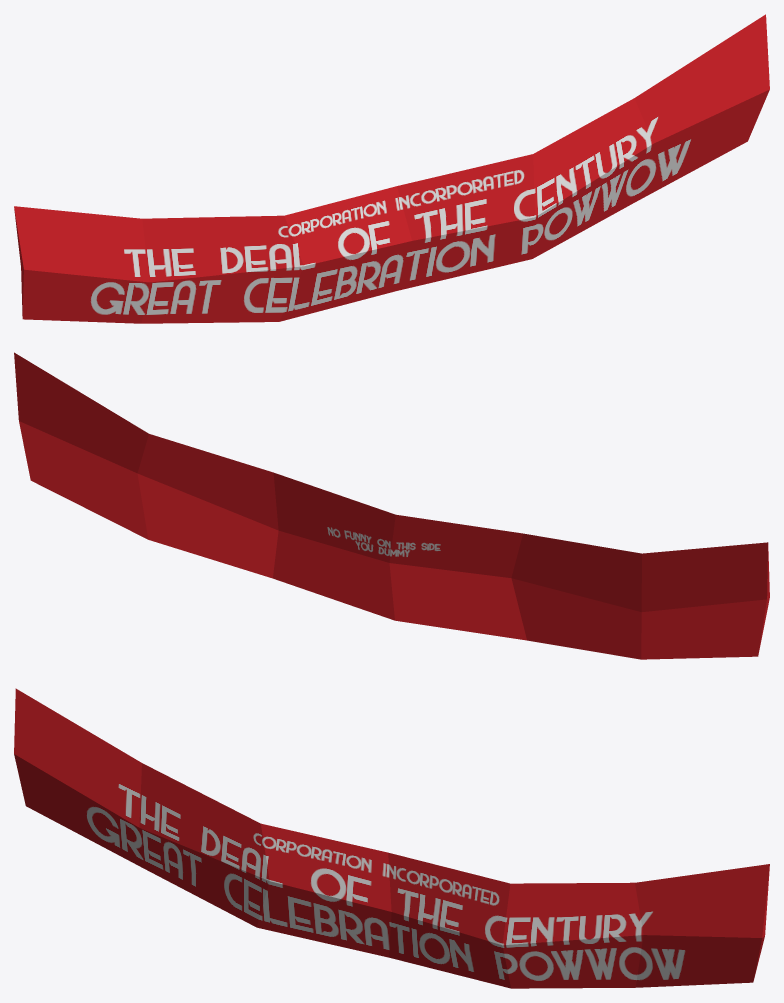
Rendered from SM_Prop_PartyBanner.fbx.
3 views of the same model, one above another, from view 1: azimuth 30°, elevation 25°; view 2: azimuth 150°, elevation 25°; view 3: azimuth 330°, elevation 25° (orthographic).
Parts seen in each view (by area): view 1: SM_Prop_PartyBanner; view 2: SM_Prop_PartyBanner; view 3: SM_Prop_PartyBanner.
Boxes of the visible parts, x1,y1,x2,y2 form: SM_Prop_PartyBanner: [14, 14, 769, 323]; SM_Prop_PartyBanner: [14, 352, 769, 659]; SM_Prop_PartyBanner: [14, 688, 769, 988].
Bounding box in the file's own units: 59.97 × 1305 × 300.
